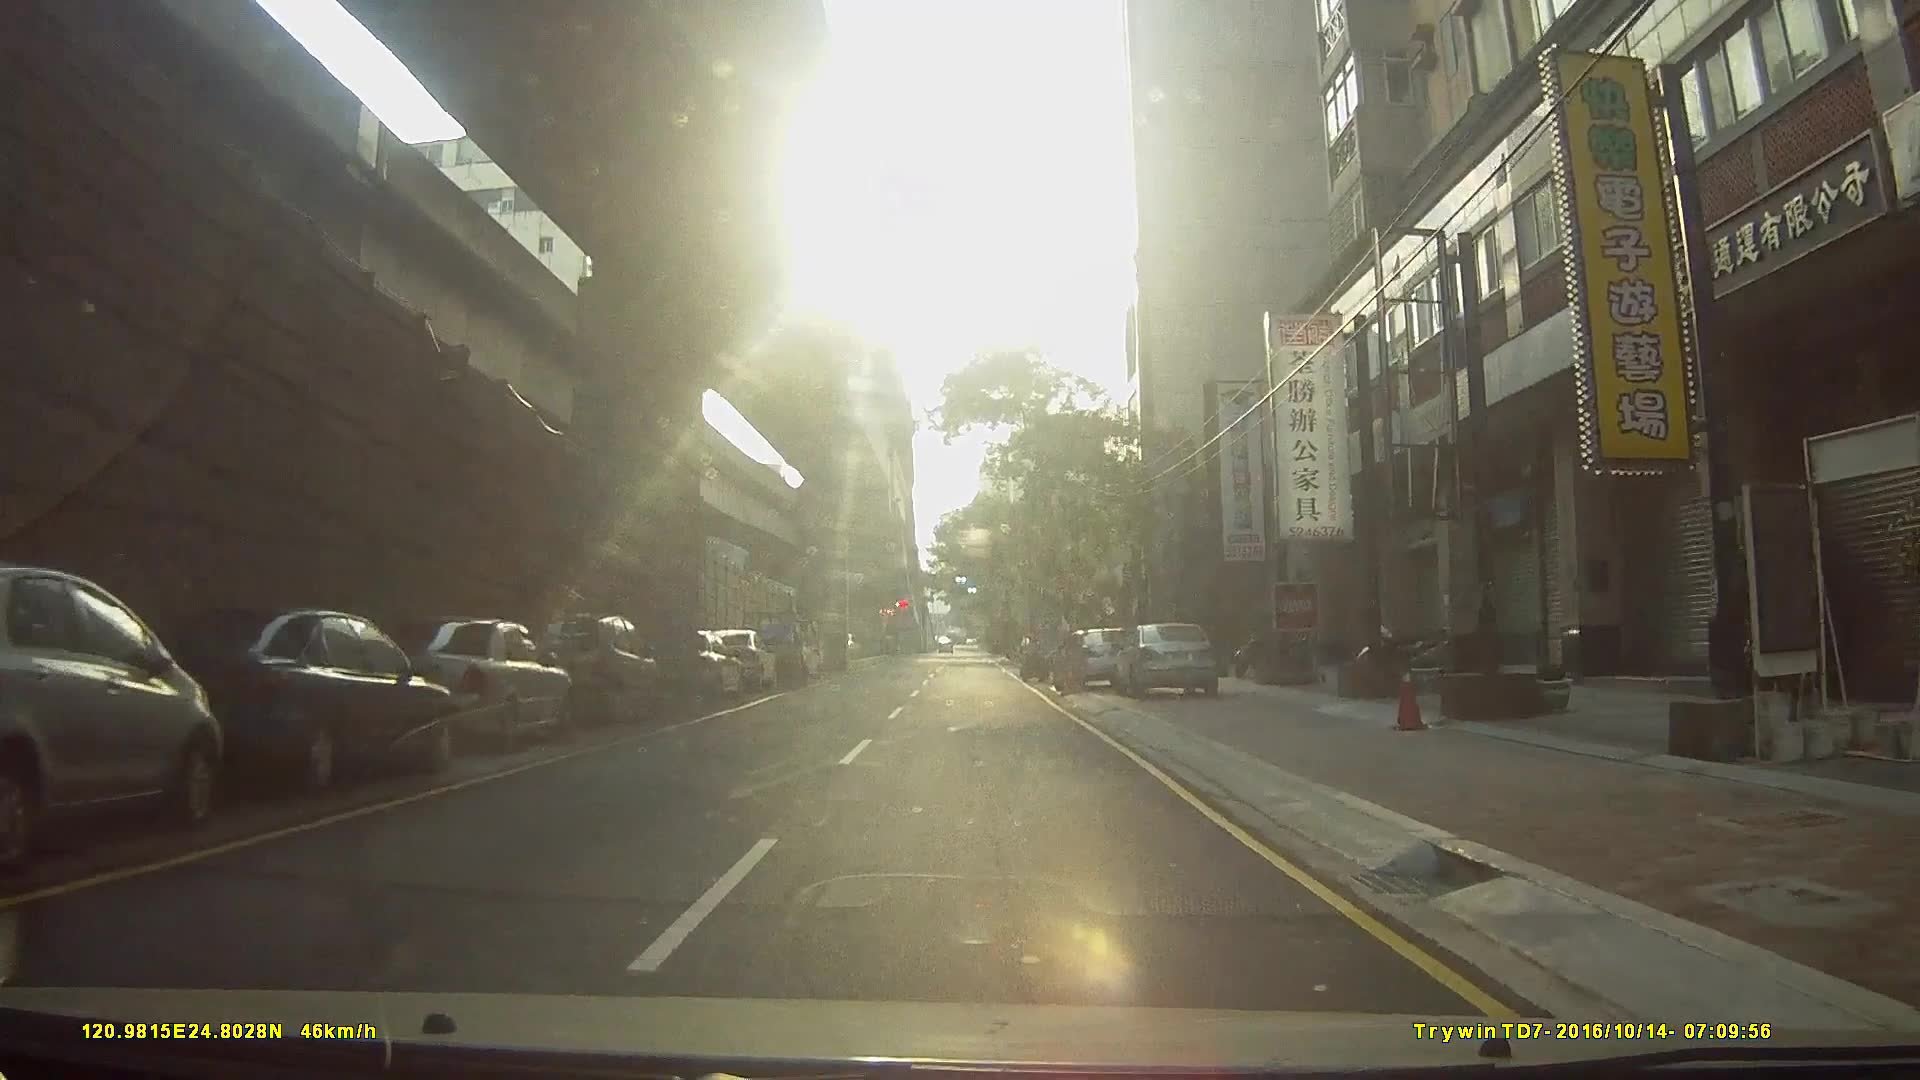rider: (1015, 622, 1048, 678)
vehicle: (1, 568, 232, 871), (123, 603, 443, 800), (372, 611, 568, 751), (512, 608, 663, 730), (1111, 619, 1221, 696), (1049, 624, 1134, 691), (696, 626, 775, 695), (736, 601, 801, 681)
